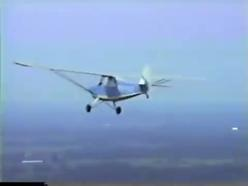aircraft: (12, 59, 174, 115)
